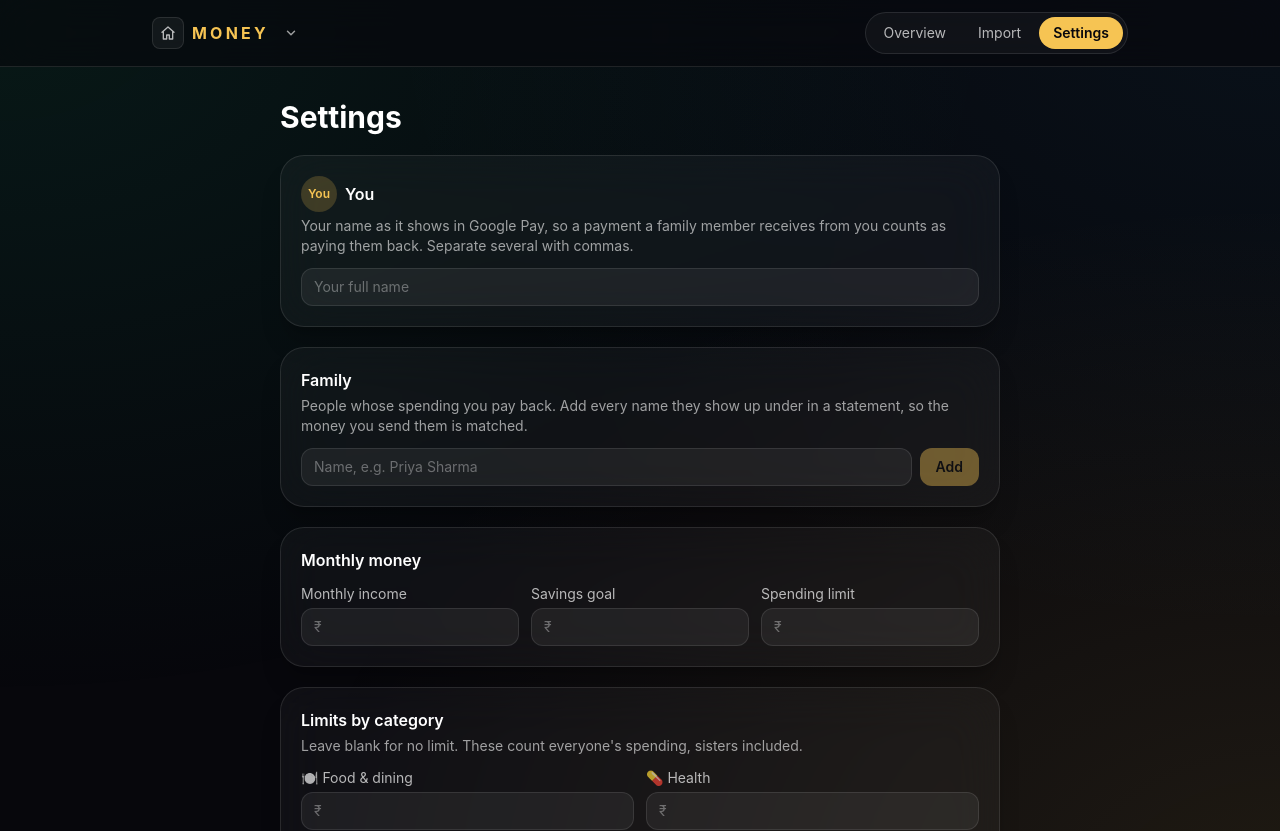
Test case: MoneySettingsPage › saves your names and family members
Type "Arjun Sharma, ARJUN R SHARMA" into the field named "Your names in Google Pay". click: (640,287)
box: [301,268,979,306]
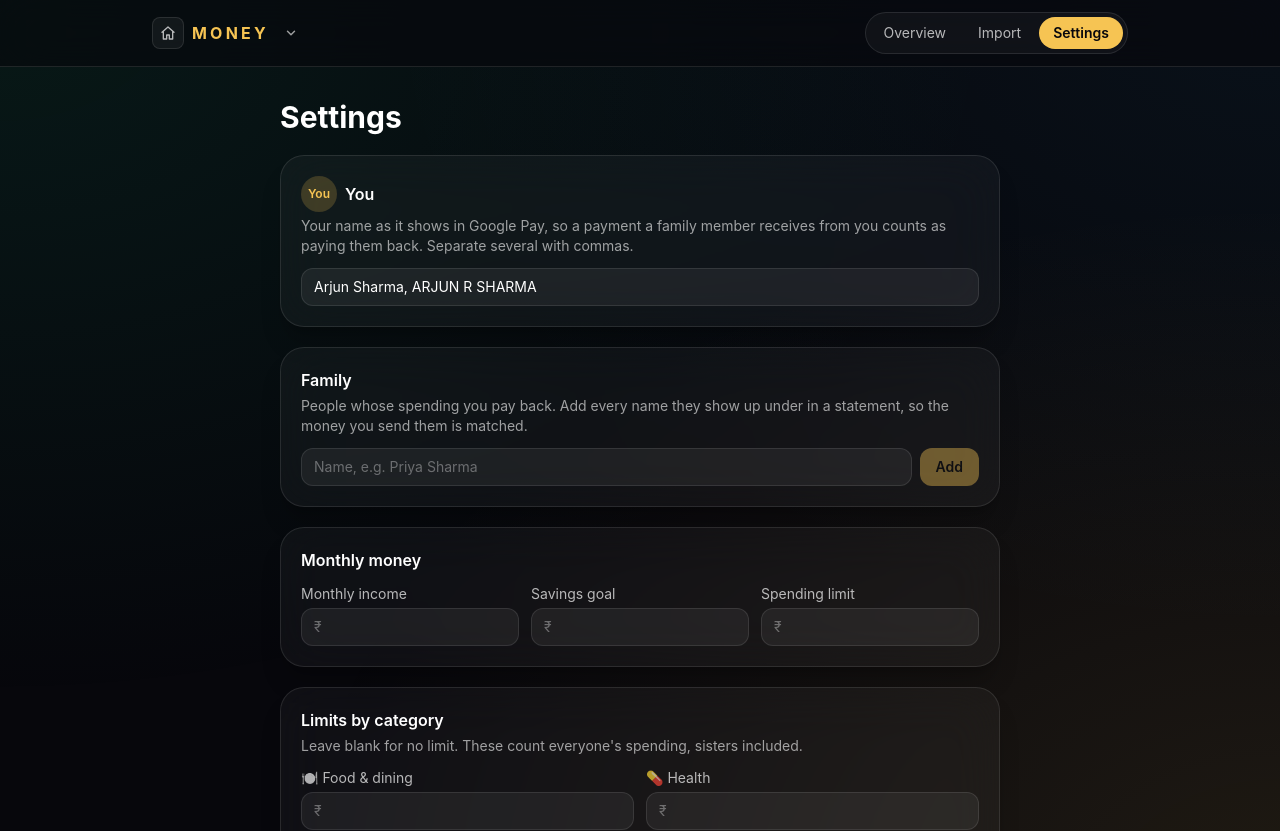
Leave the field named "Your names in Google Pay", box [301,268,979,306]
Check: the button "Add" is disabled, box [920,448,979,486]
Type "Meera" into the field labelled "Name". click: (606,467)
box: [301,448,912,486]
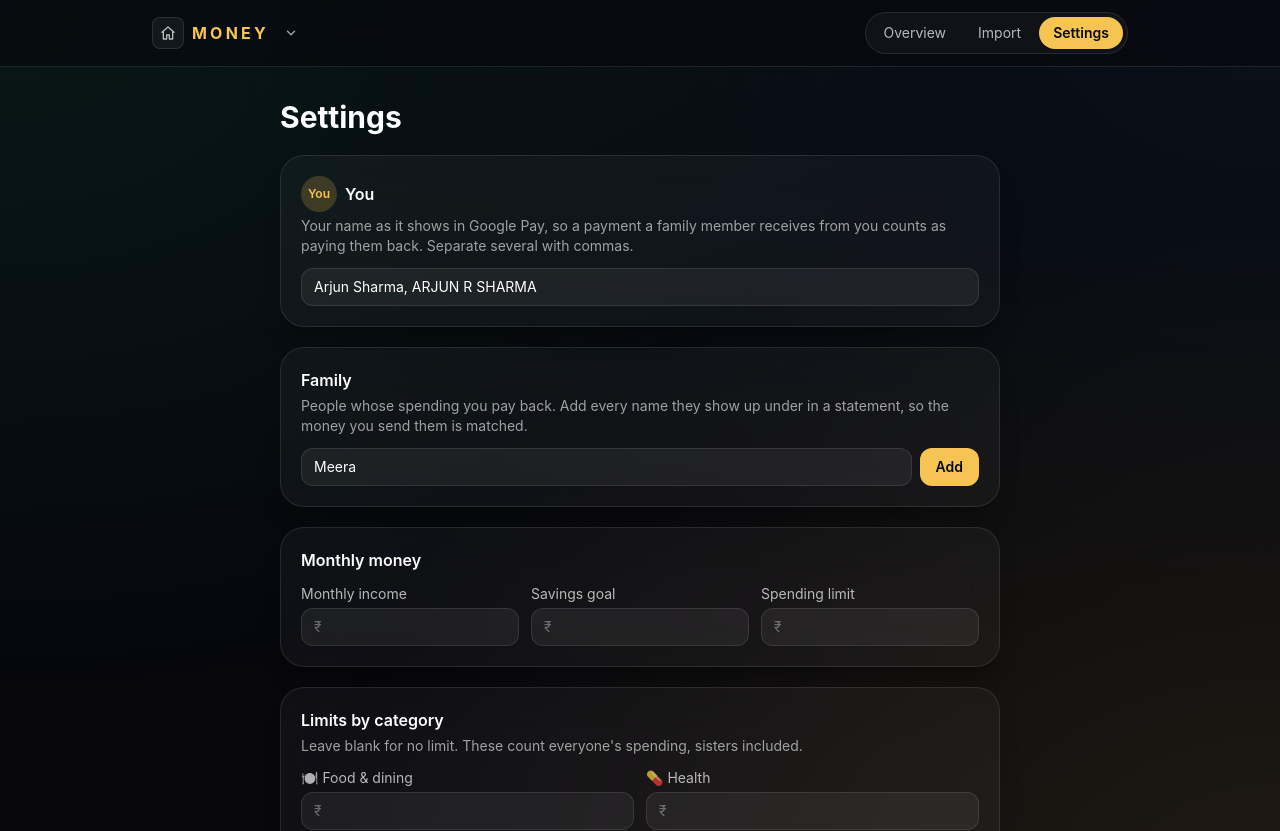
Click the button "Add". click: (949,467)
box: [920,448,979,486]
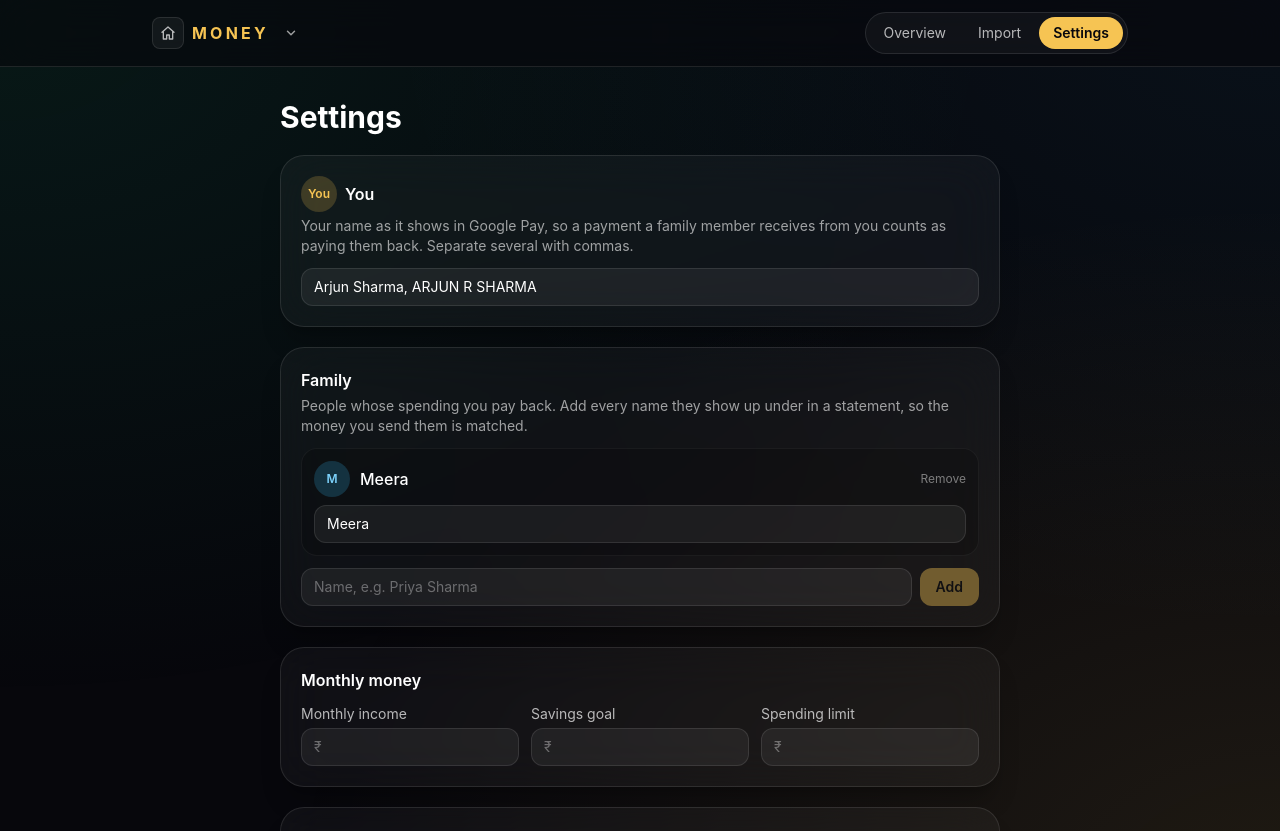
Check: the text "Meera" is shown, box [360,469,409,489]
Replace the text in the field named "Meera's names in Google Pay" with "Meera, MEERA VIKRAM SHARMA". click: (640,524)
box: [314,505,966,543]
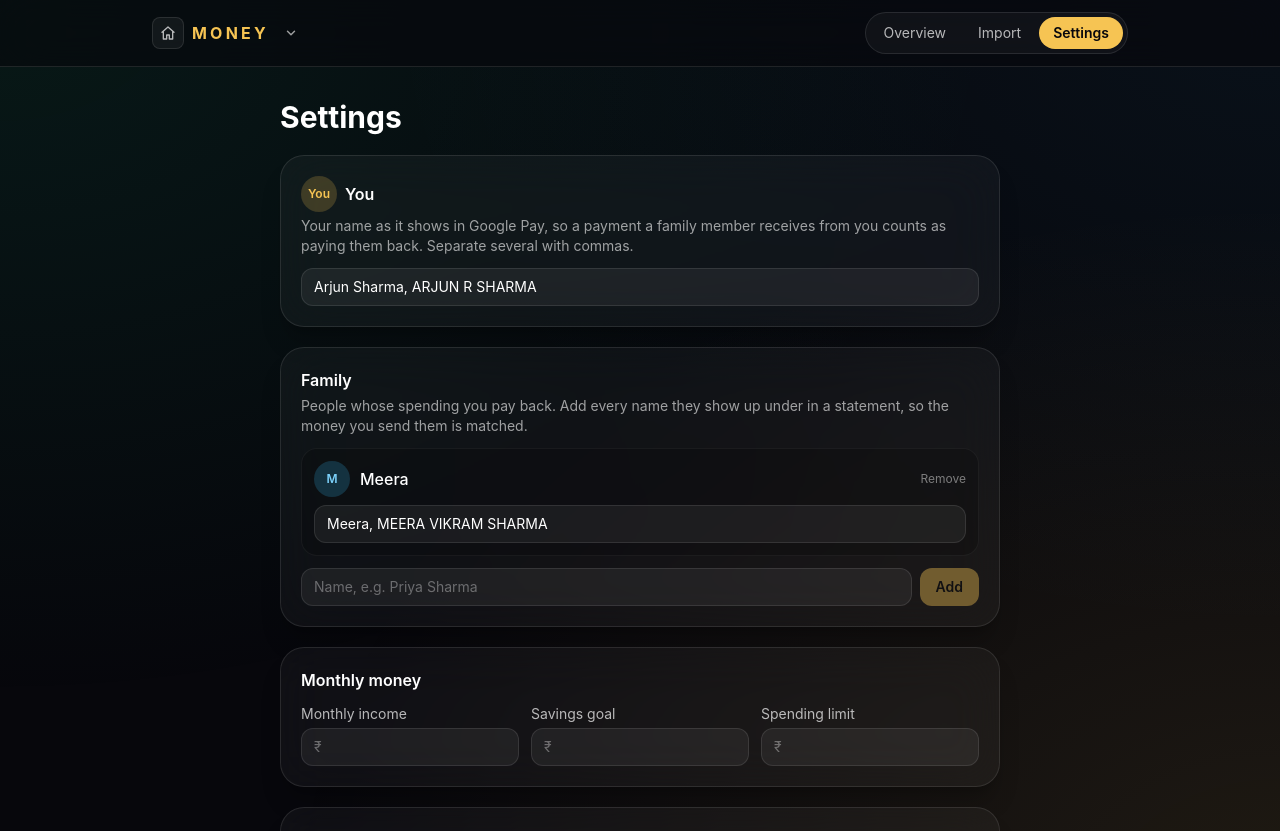
Submit the form, box [301,568,979,606]
Click the button with aria-label "Remove Meera". click: (943,479)
box: [920,471,966,487]
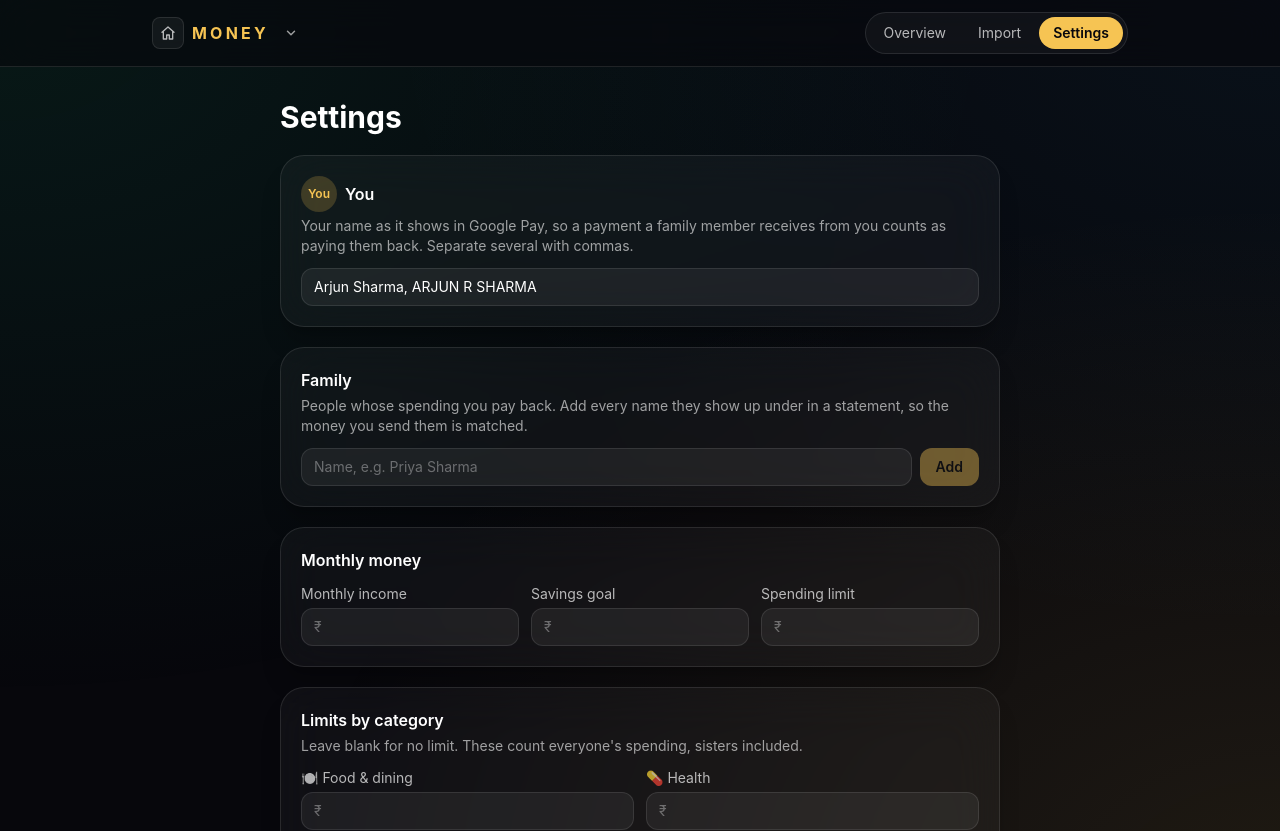
Check: the text "Meera" is gone
